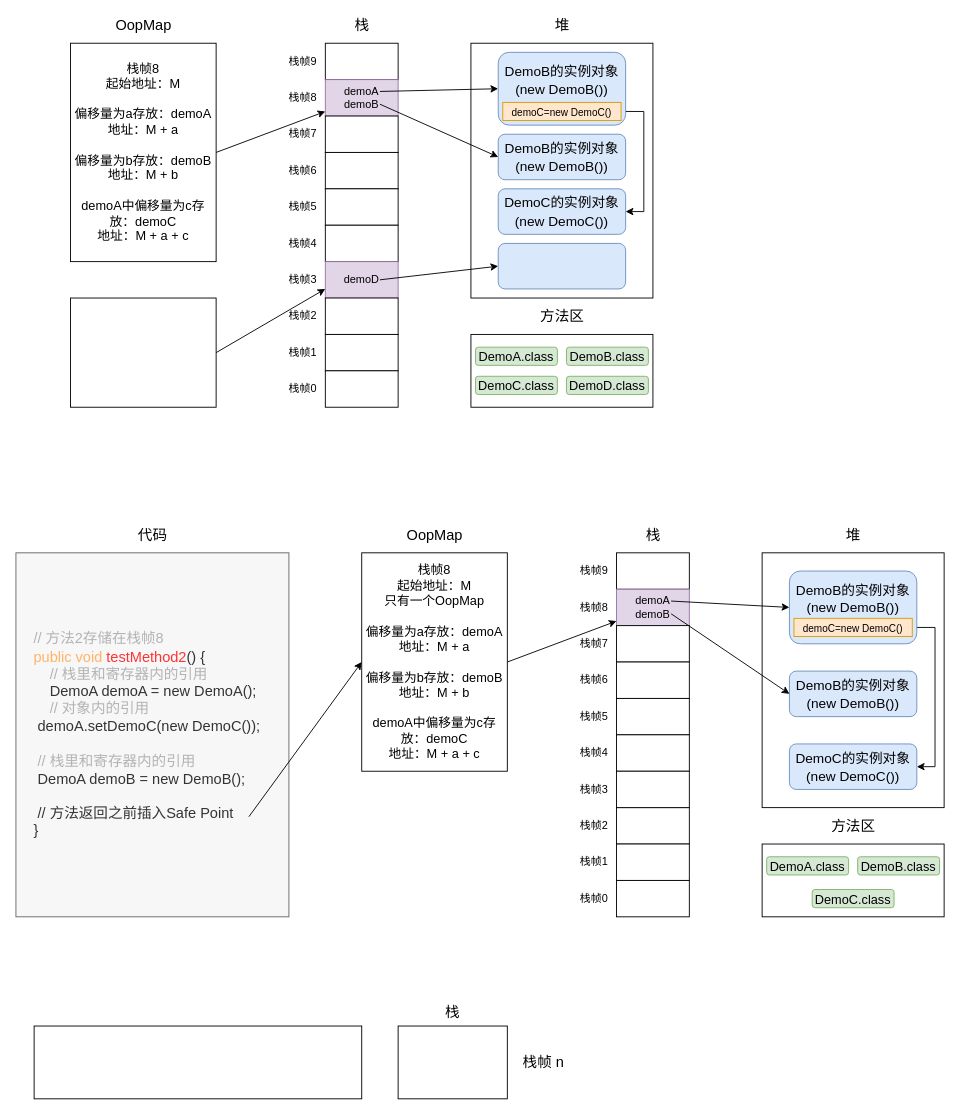
This 960x1115 diagram has some shape labels left out. Each missing label, with the box of its shape:
DemoD的实例对象 (new DemoD()): (497, 243, 626, 289)
MethodAnalyzeDemo demo = new MethodAnalyzeDemo(); demo.doSomething();: (33, 1025, 362, 1099)
栈帧3 起始地址：N 偏移量为c存放：demoC 地址：N + c: (70, 297, 216, 407)
